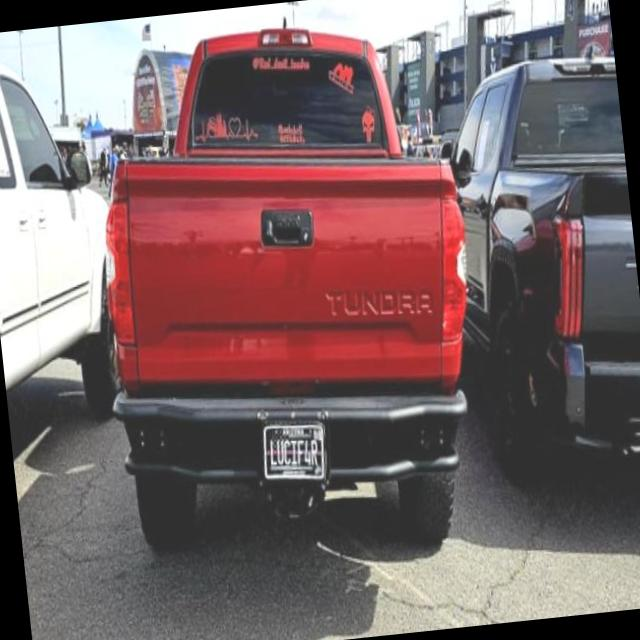LicensePlate: (262, 423, 323, 479)
